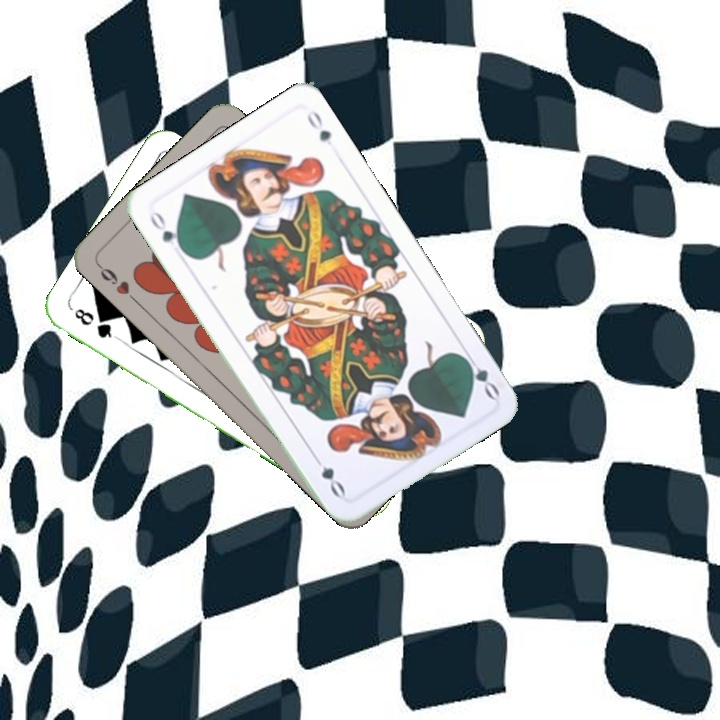G8: (70, 304, 121, 342)
GO: (457, 348, 503, 402), (145, 206, 188, 256)
H9: (93, 260, 140, 305)
